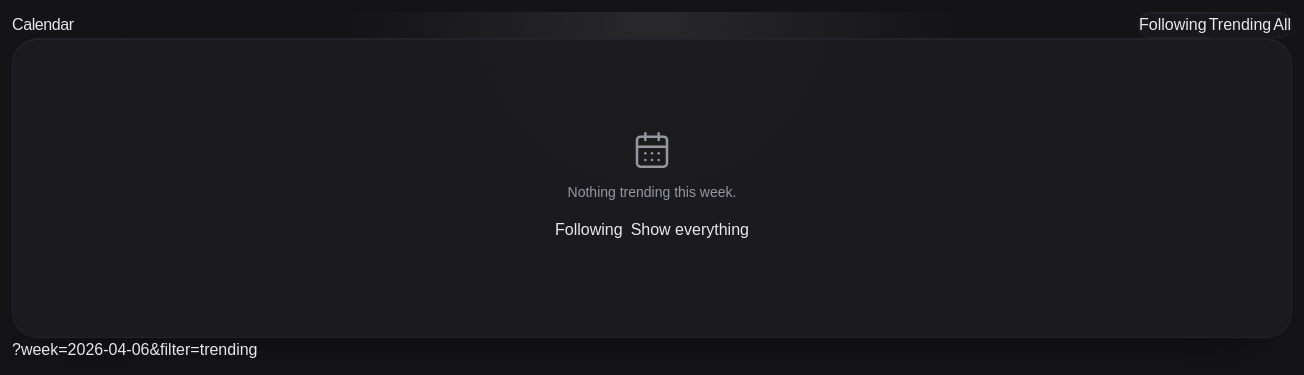
Test: switches to the linked view
Click the button "Show everything".
click(690, 230)  # box [631, 214, 749, 246]
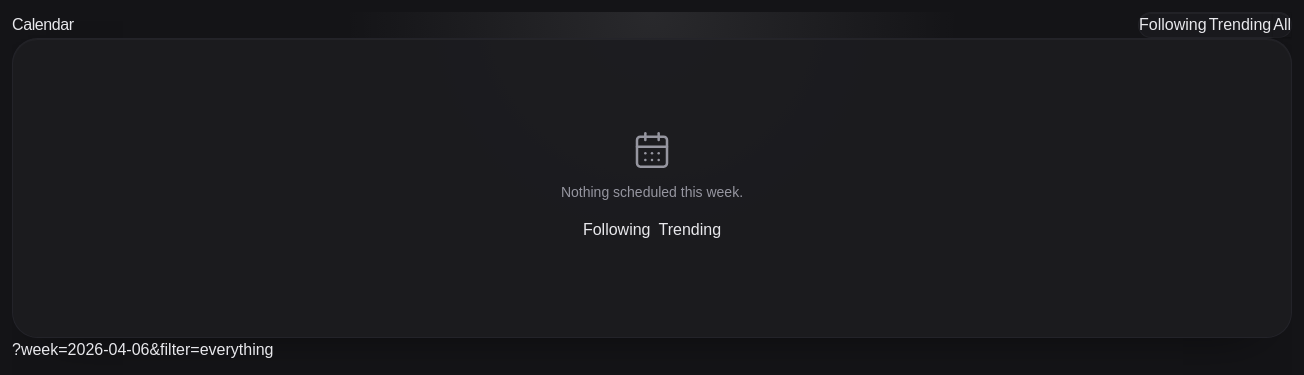
Check: the text with test id "location" shows "filter=everything", box [12, 341, 274, 358]
Check: the text "Nothing scheduled this week." is shown, box [561, 182, 743, 202]
